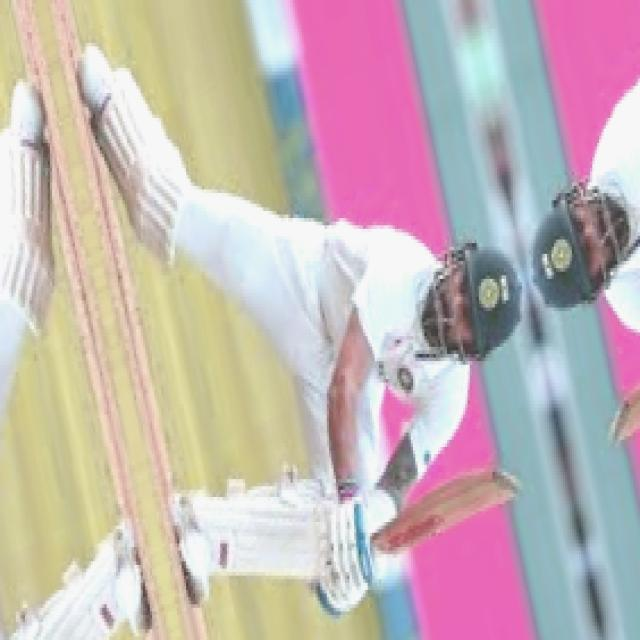bat: (365, 467, 525, 554)
toe: (486, 473, 517, 498)
